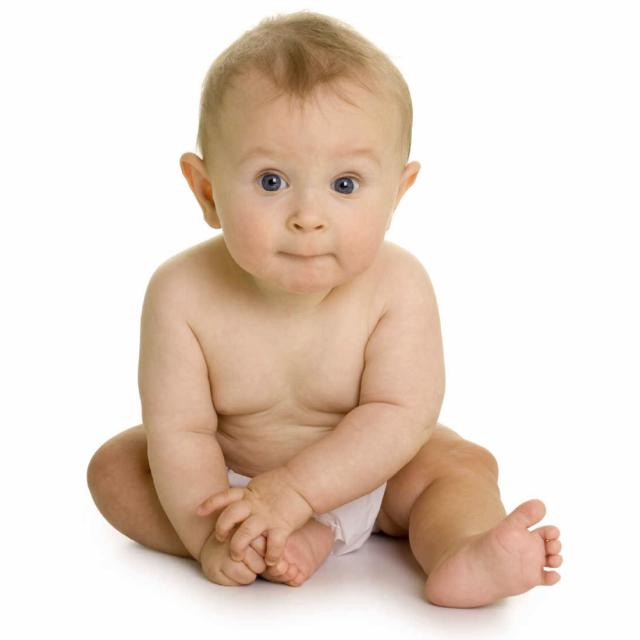child: (85, 10, 562, 610)
